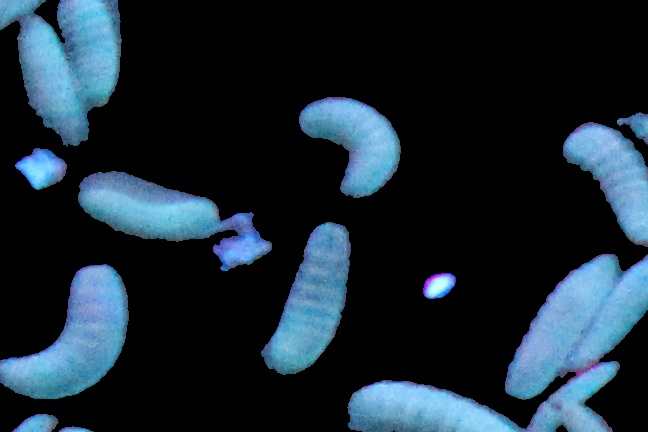larvae: (1, 263, 129, 406), (506, 253, 619, 397), (261, 222, 350, 373), (562, 122, 648, 246), (76, 174, 219, 246), (300, 96, 401, 196), (15, 13, 89, 144), (347, 380, 521, 432), (569, 263, 648, 368), (58, 1, 121, 107), (527, 363, 617, 432), (561, 401, 610, 432)
